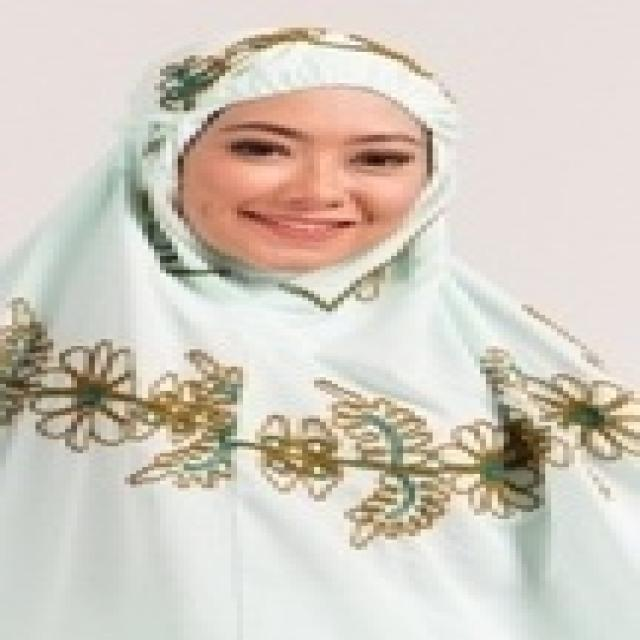head: (146, 22, 464, 291)
